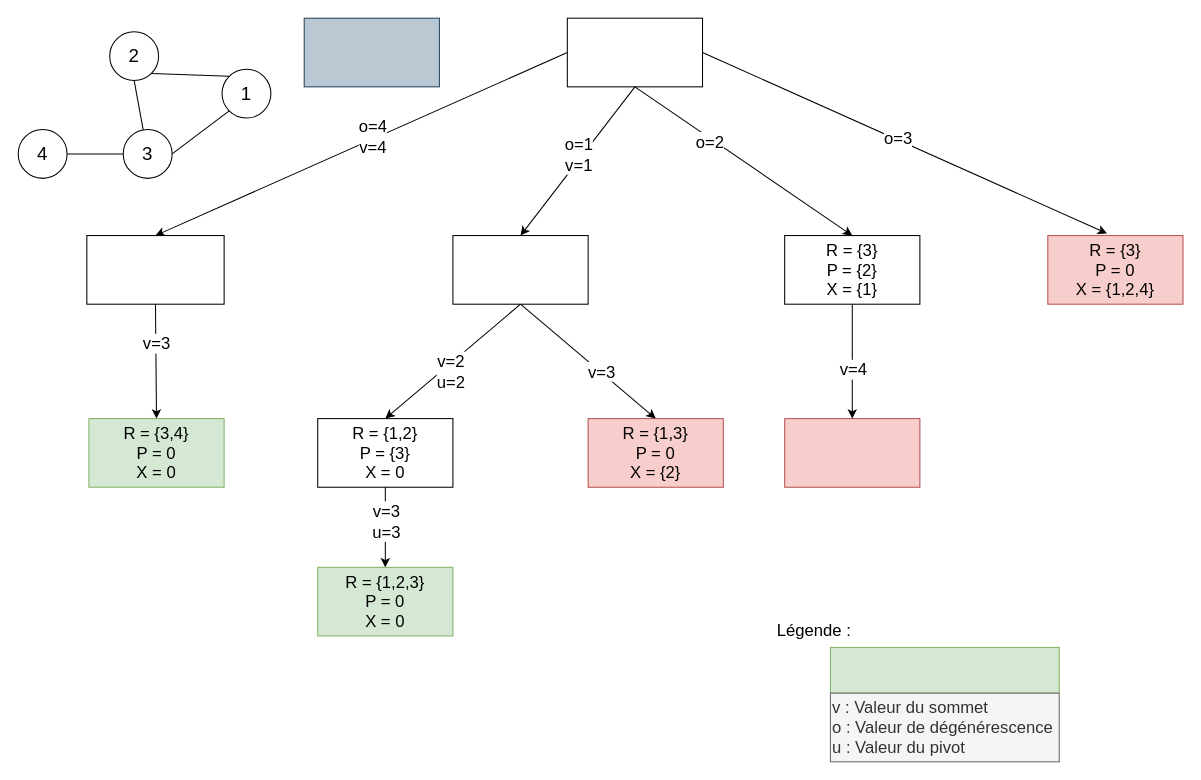
Some shapes in this 1201 by 780 pixel diagram are drawn without their labels. Each missing label, with the box of its shape:
Clique Maximale: (829, 646, 1059, 693)
Ordre Dégénérescence : 4-1-2-3: (303, 17, 439, 87)
R = 0 P = {1,2,3,4} X = 0: (566, 17, 703, 87)
R = 0 P = {2,3} X = {1}: (452, 235, 588, 304)
R = {2,3} P = 0 X = {1}: (784, 418, 920, 487)
R = {4} P = {3} X = 0: (86, 235, 224, 304)
